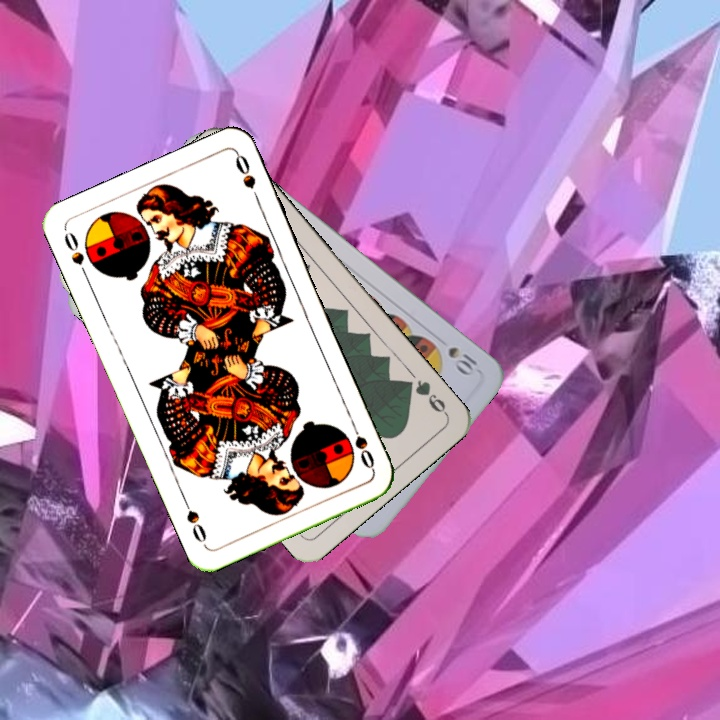G9: (399, 375, 450, 418)
S10: (444, 342, 480, 376)
SO: (60, 226, 91, 282), (347, 416, 377, 473)
